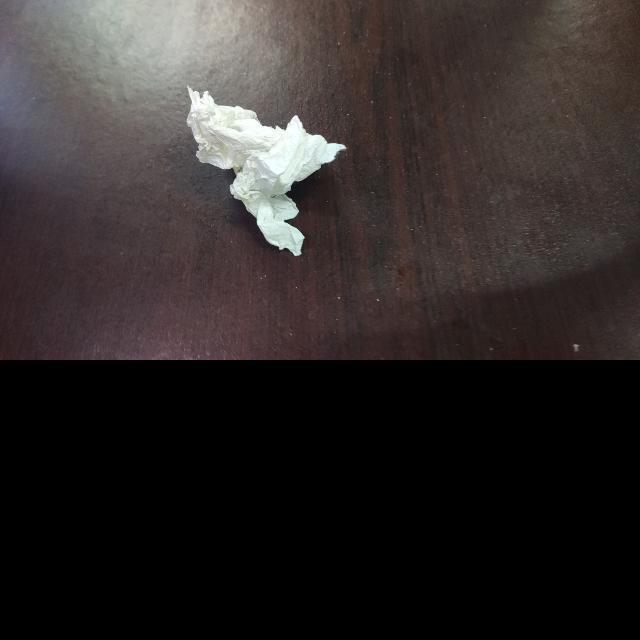kitchen paper: (185, 79, 348, 268)
